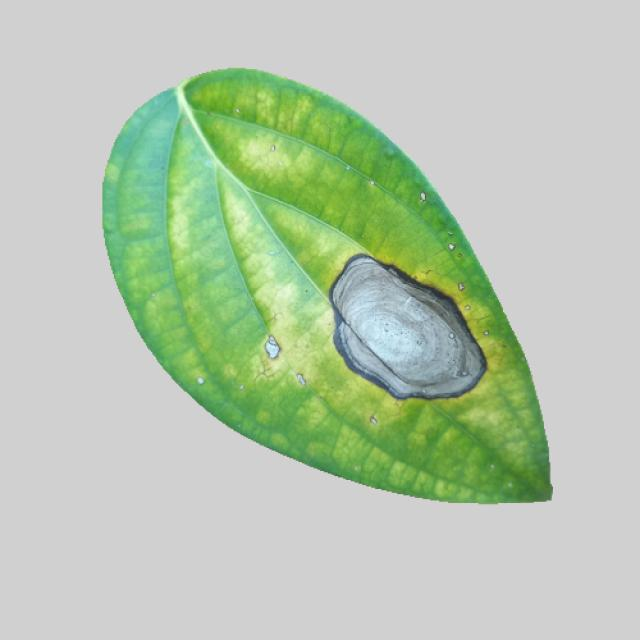leaf-blight: (93, 76, 554, 504)
